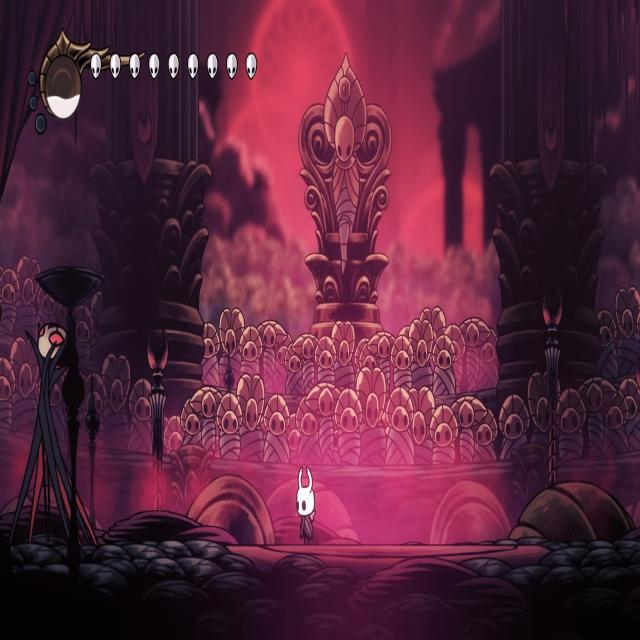Grimm: (10, 311, 100, 542)
Player: (294, 464, 316, 549)
